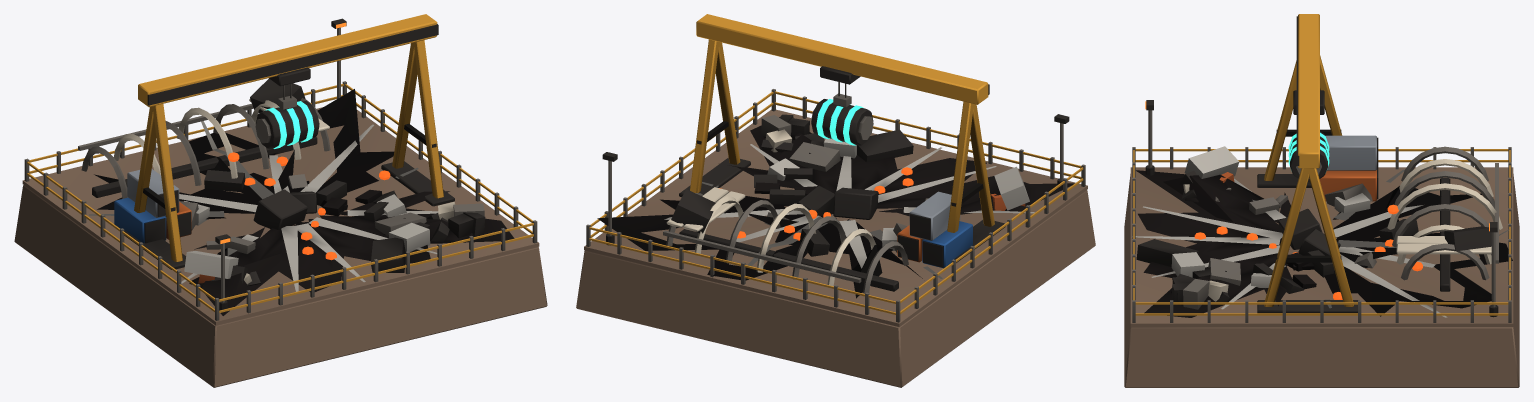
File: salvage-yard-khepri.glb
3 renders of one model, left to right at view 1: azimuth 30°, elevation 25°; view 2: azimuth 150°, elevation 25°; view 3: azimuth 270°, elevation 25°, orthographic. The views are drawn at different scales.
Parts seen in each view (by area): view 1: site_salvage_yard_khepri_body, site_salvage_yard_khepri_ruin, site_salvage_yard_khepri_core; view 2: site_salvage_yard_khepri_body, site_salvage_yard_khepri_ruin, site_salvage_yard_khepri_core; view 3: site_salvage_yard_khepri_body, site_salvage_yard_khepri_ruin, site_salvage_yard_khepri_core.
Boxes of the visible parts, left/top/right/bottom form: site_salvage_yard_khepri_body: left=14, top=14, right=547, bottom=387; site_salvage_yard_khepri_ruin: left=89, top=78, right=514, bottom=315; site_salvage_yard_khepri_core: left=255, top=101, right=319, bottom=149; site_salvage_yard_khepri_body: left=576, top=14, right=1095, bottom=387; site_salvage_yard_khepri_ruin: left=597, top=117, right=1074, bottom=298; site_salvage_yard_khepri_core: left=811, top=99, right=873, bottom=145; site_salvage_yard_khepri_body: left=1124, top=14, right=1519, bottom=387; site_salvage_yard_khepri_ruin: left=1132, top=146, right=1512, bottom=317; site_salvage_yard_khepri_core: left=1288, top=131, right=1329, bottom=181.
Bounding box in the file's own units: 5.9 × 3.82 × 6.1.
